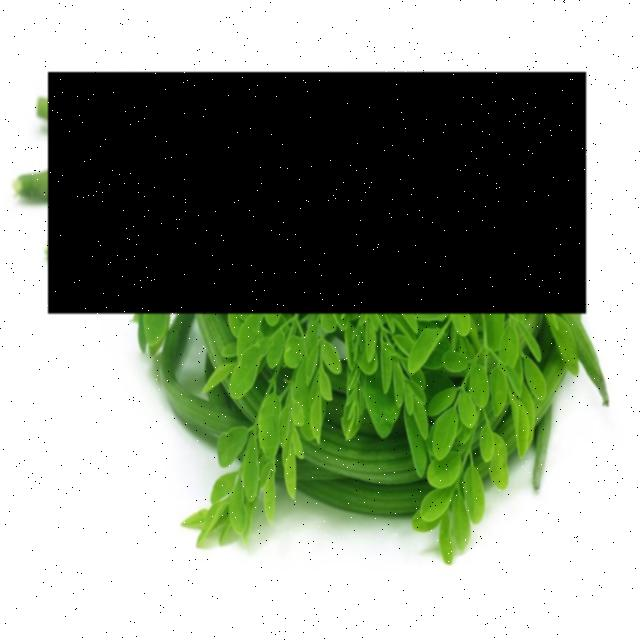Sajjyun: (49, 72, 586, 314)
